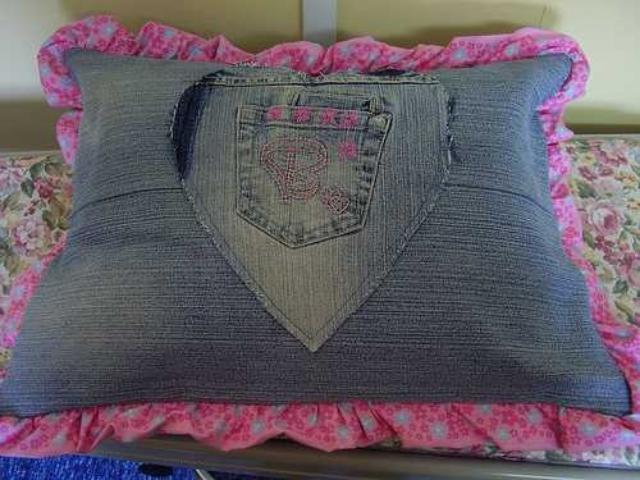pillow: (32, 24, 632, 450)
